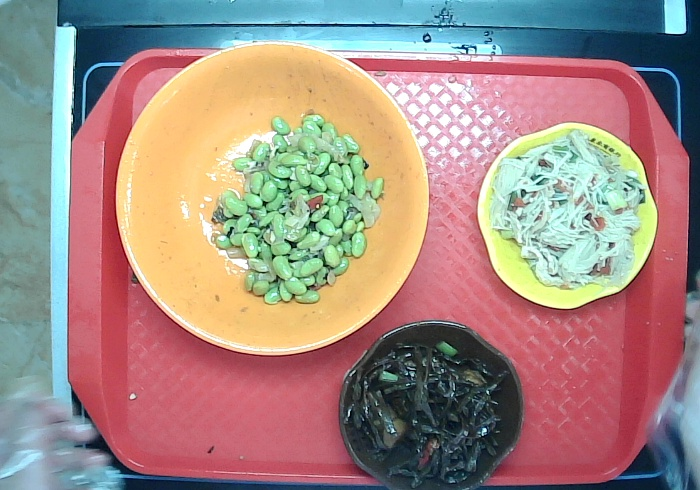YKMZ-Huang_Se_Ao_Bian_Wan: (465, 116, 661, 308)
YKMZ-Ju_Se_Tang_Wan: (116, 35, 440, 365)
YKMZ-Ka_Fei_Ao_Bian_Wan: (331, 316, 531, 490)
